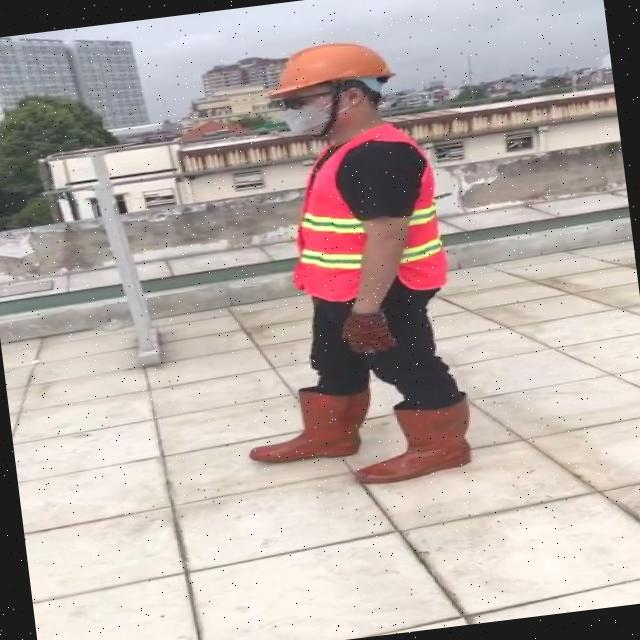boots: (238, 380, 374, 468), (353, 402, 477, 488)
